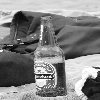beer: (31, 16, 70, 100)
